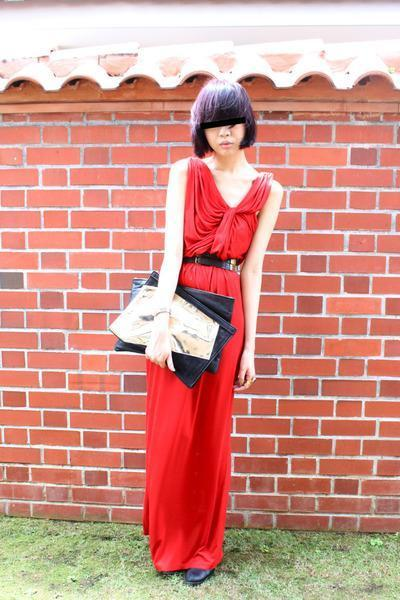bag: (112, 271, 235, 387)
dress: (132, 164, 269, 570)
shoe: (180, 568, 215, 586)
